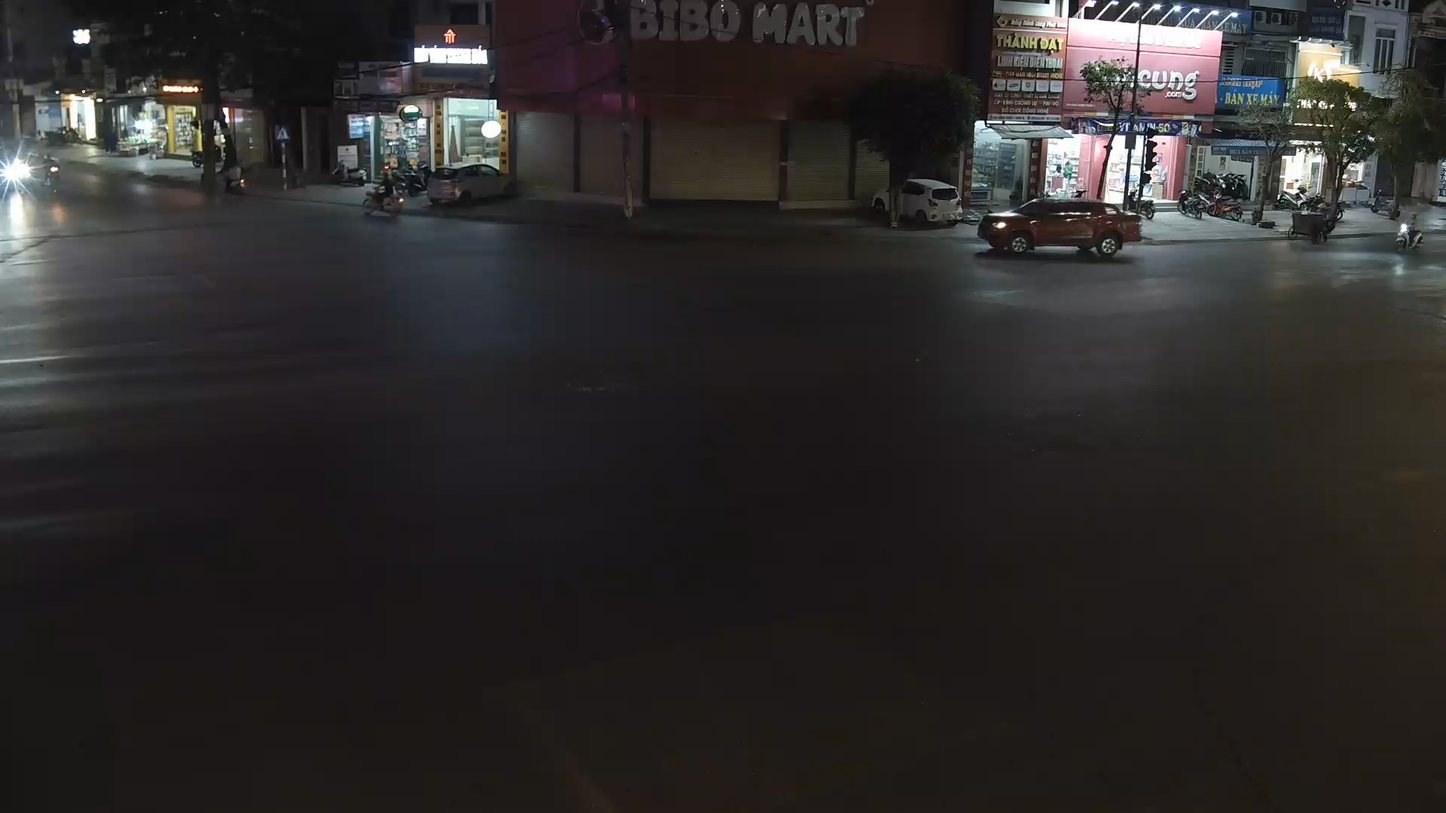car: (976, 199, 1129, 261)
